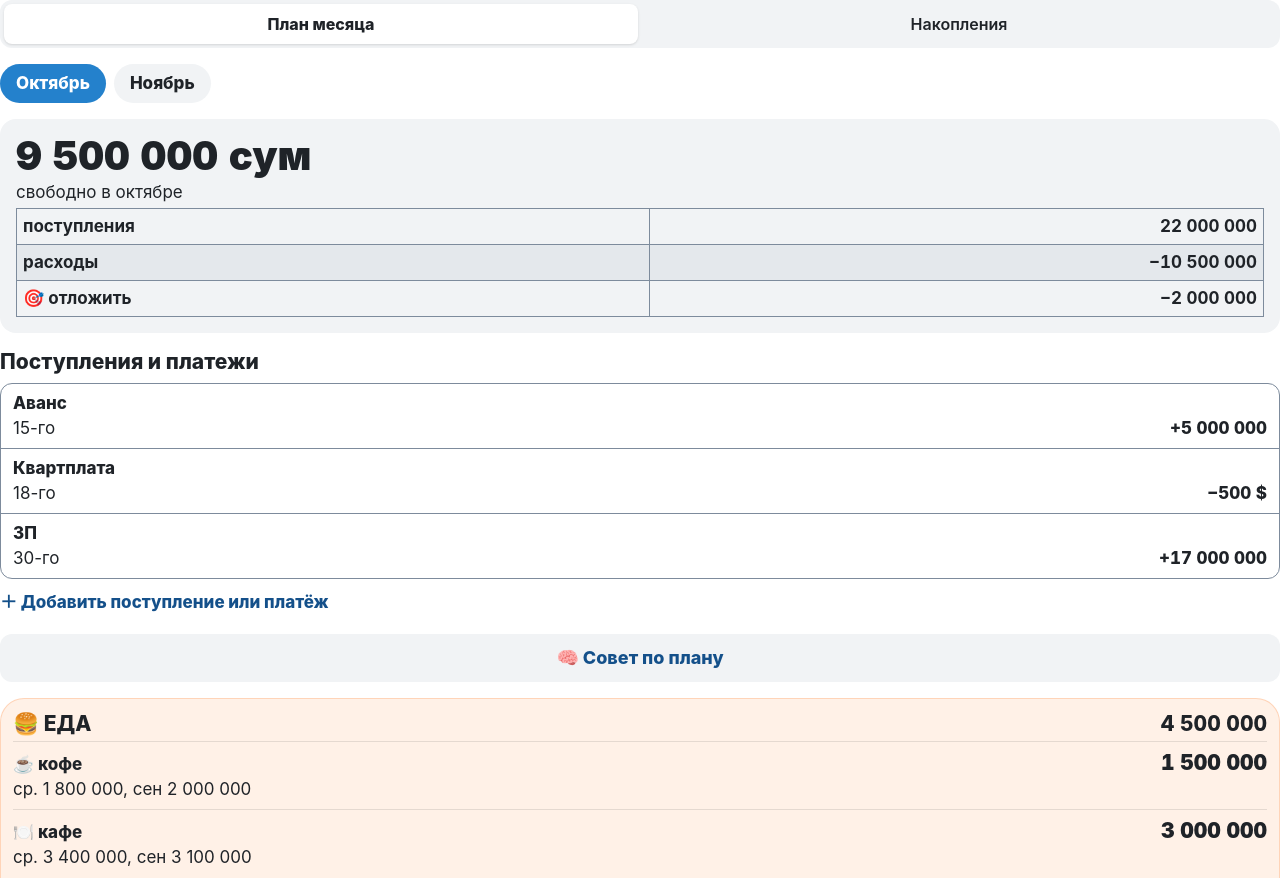
PlanTab › switches between this month and the next
expect the element named "Итог месяца" is shown: met, box [0,119,1279,333]
Click the radio button labelled "Ноябрь".
click(162, 83)  # box [114,64,211,103]
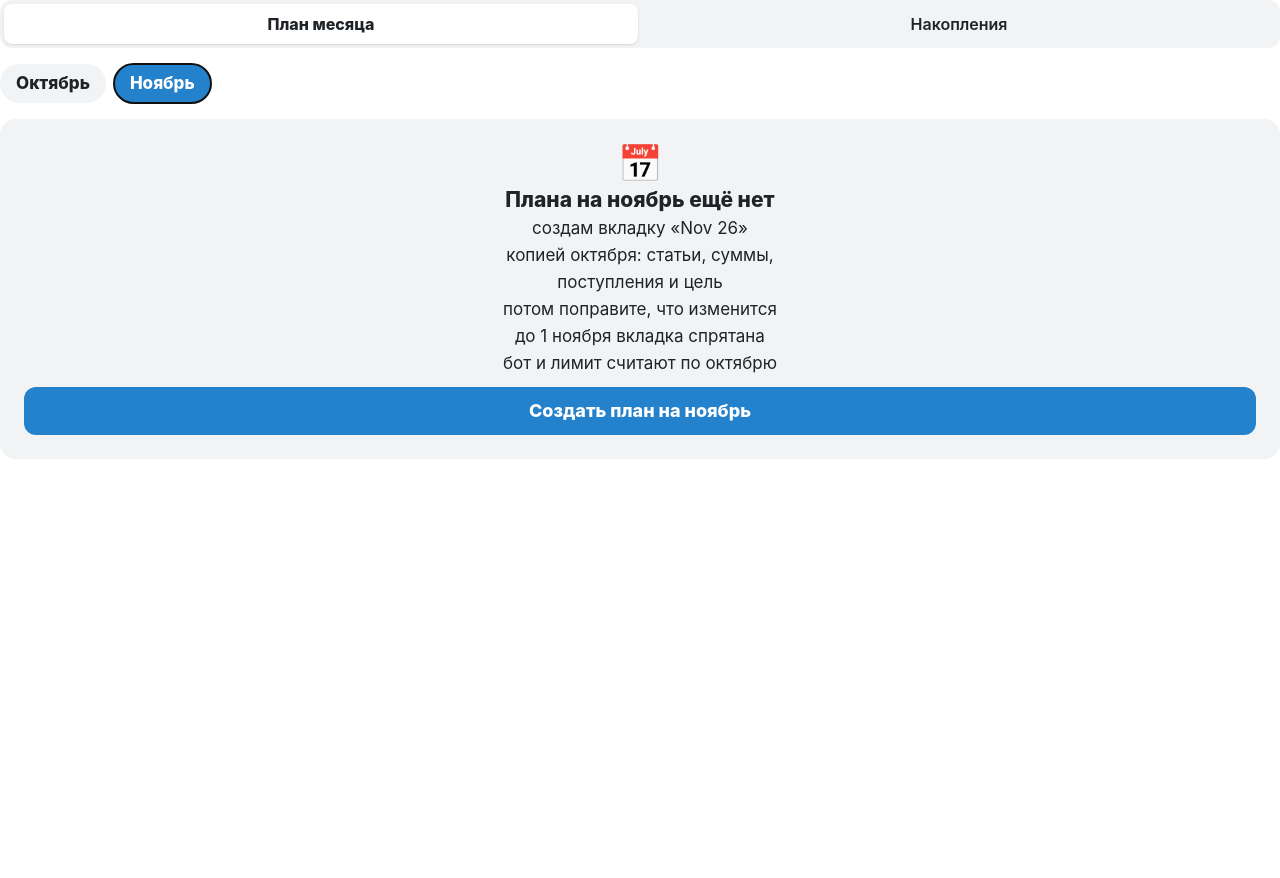
expect the heading "Плана на ноябрь ещё нет" is shown: met, box [505,187,775,213]
